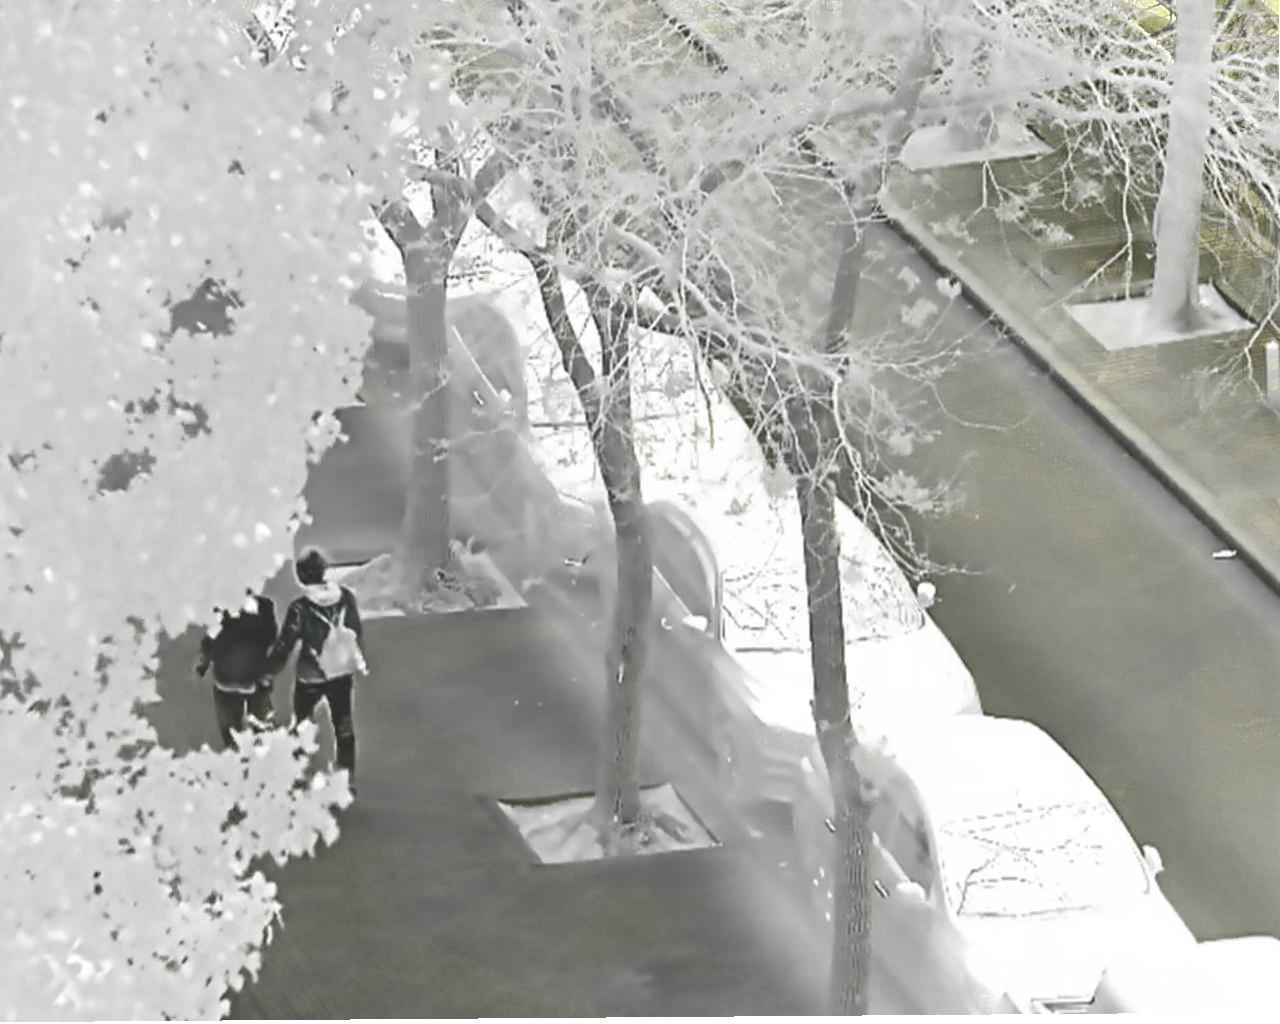person: (273, 545, 369, 795), (185, 559, 285, 783)
